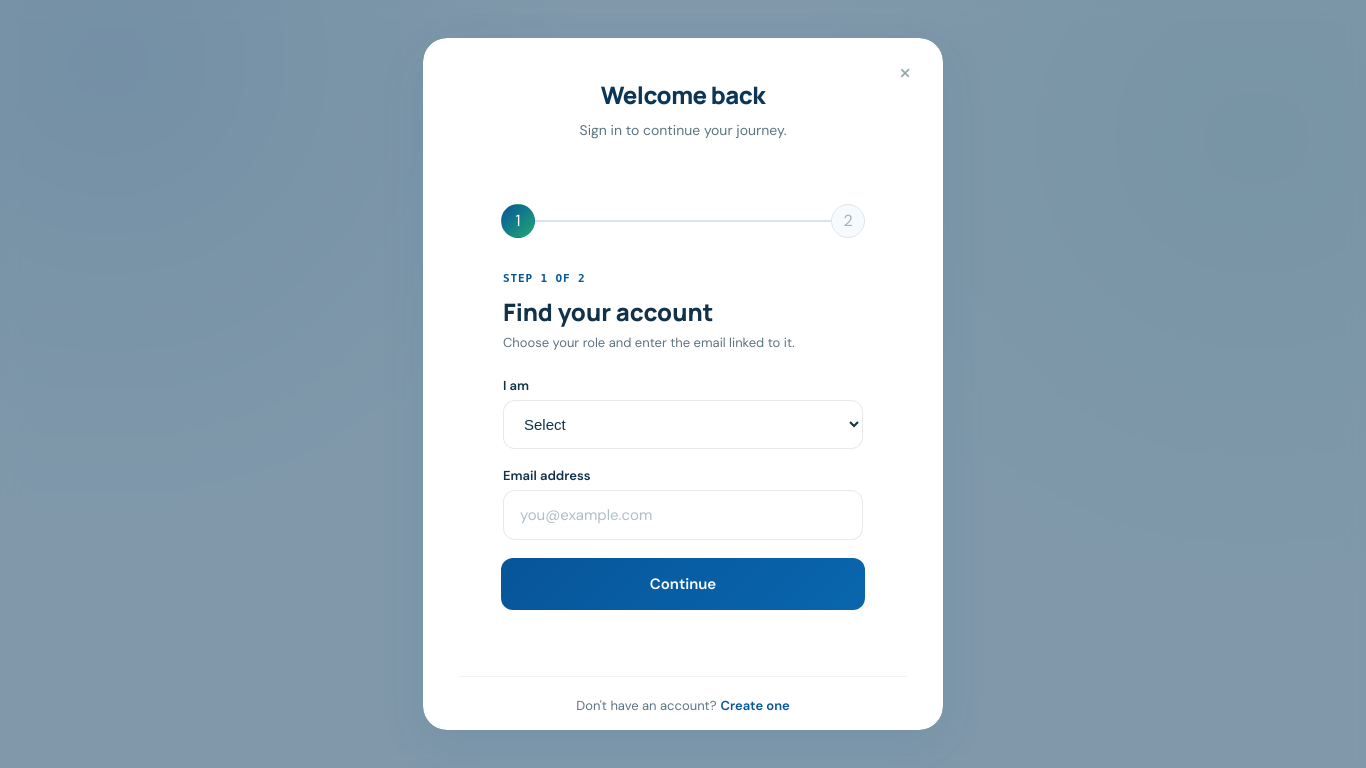
Test case: AuthModal › rejects an invalid email without advancing
Select "Looking for work" in the dropdown with id "auth-role" at (683, 424), box [503,400,863,449]
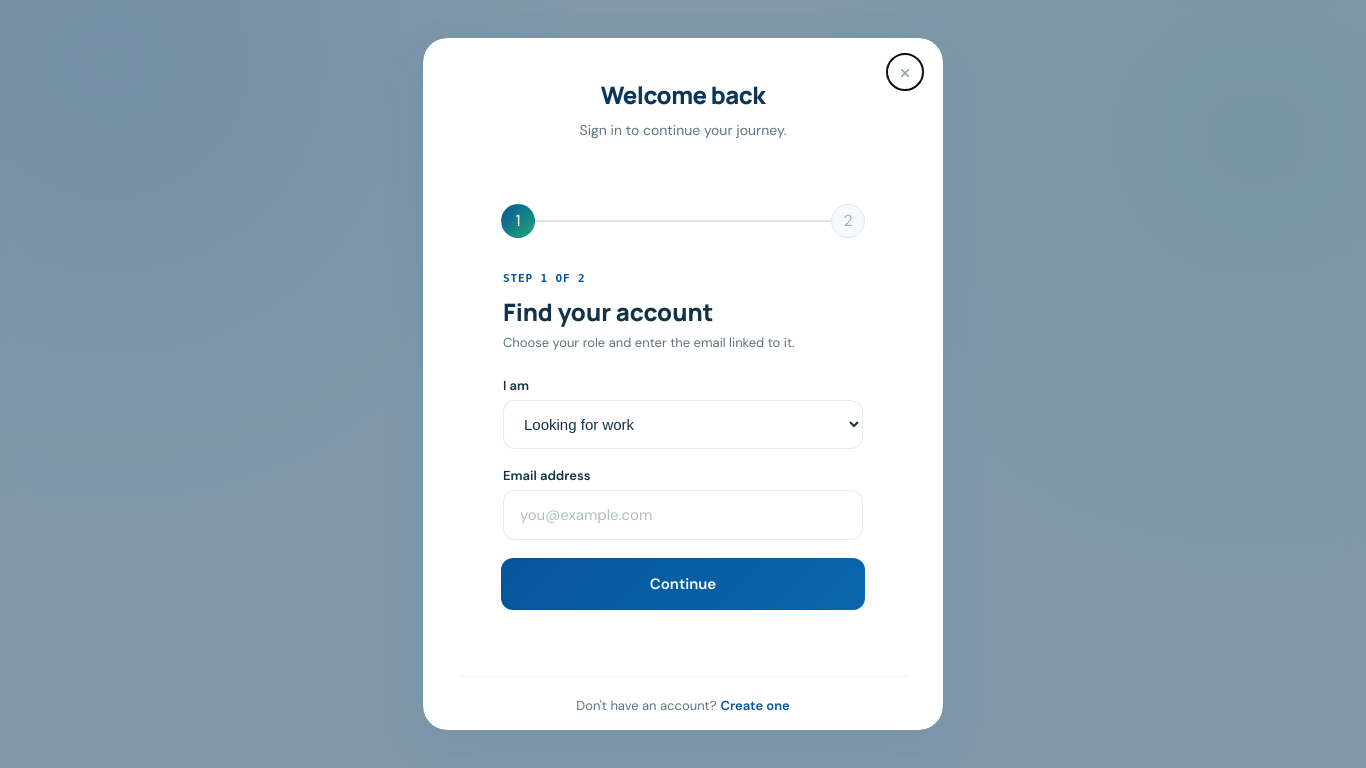
Type "person@@example.com" into the field with id "auth-login-email" at (683, 515), box [503,490,863,540]
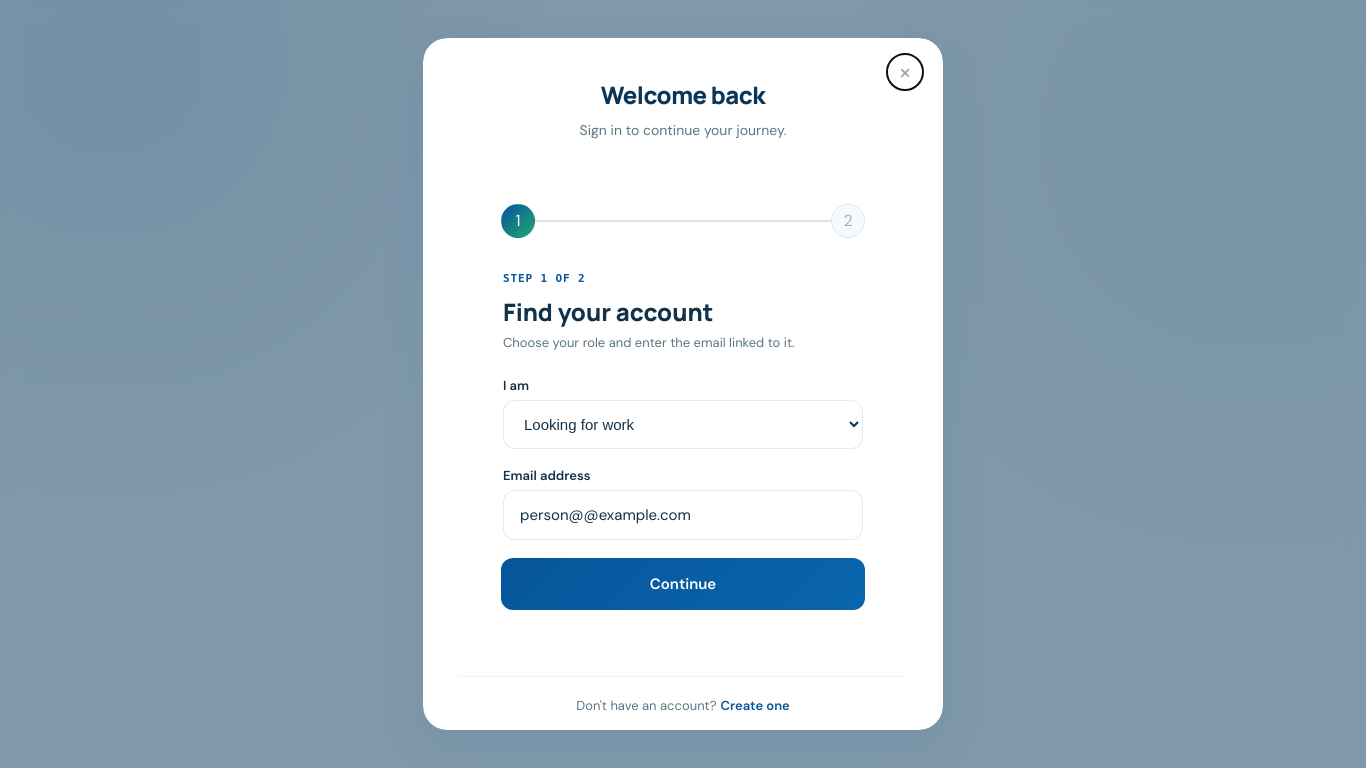
Click the button with class "auth-form__submit" at (683, 584), box [501,558,865,610]
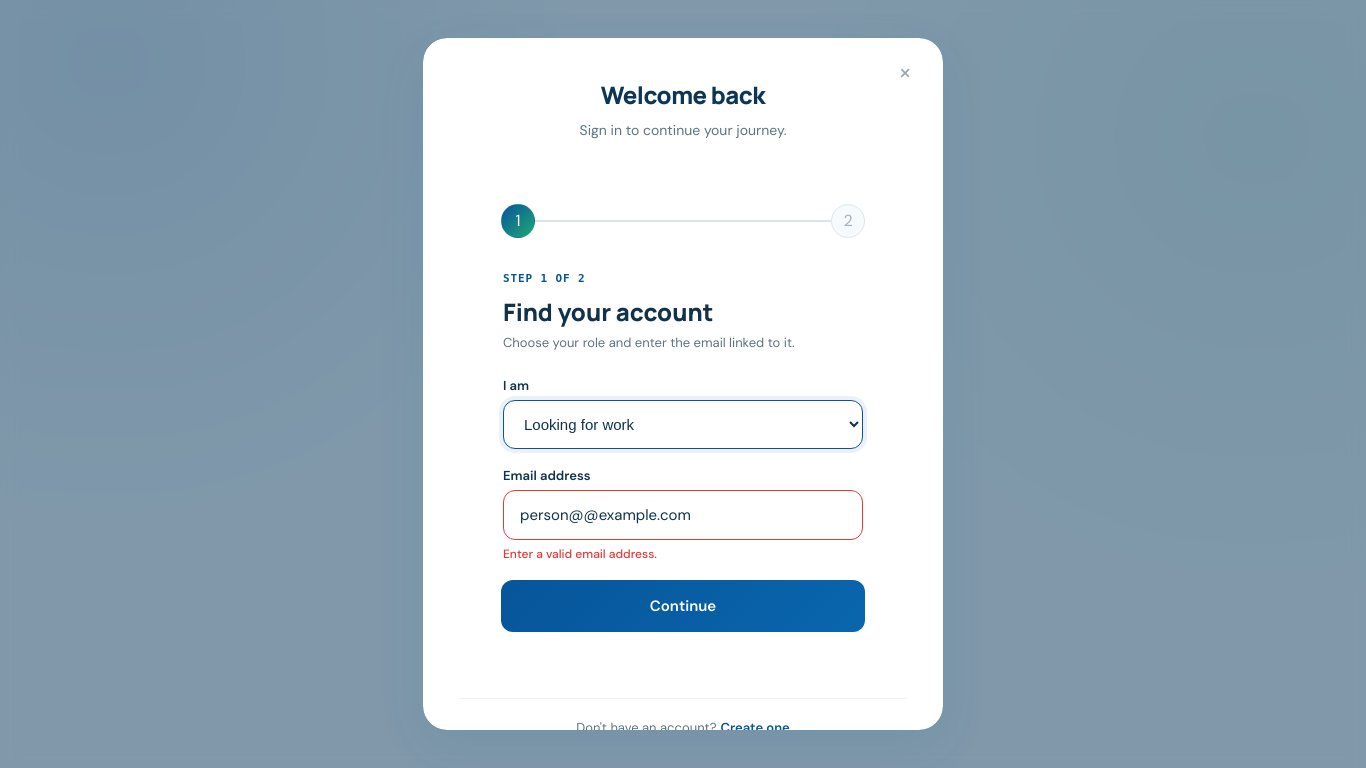
Expected: the text "Step 1 of 2" is shown, [503,272,586,285]
Now the text with class "auth-field__error" reads "Enter a valid email address.", box [503,546,657,562]
